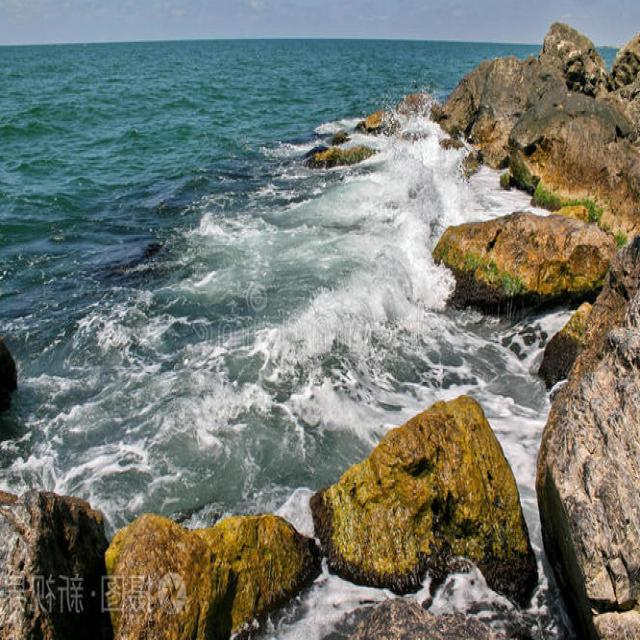reef: (0, 424, 270, 611), (304, 367, 508, 576), (306, 51, 511, 242)
